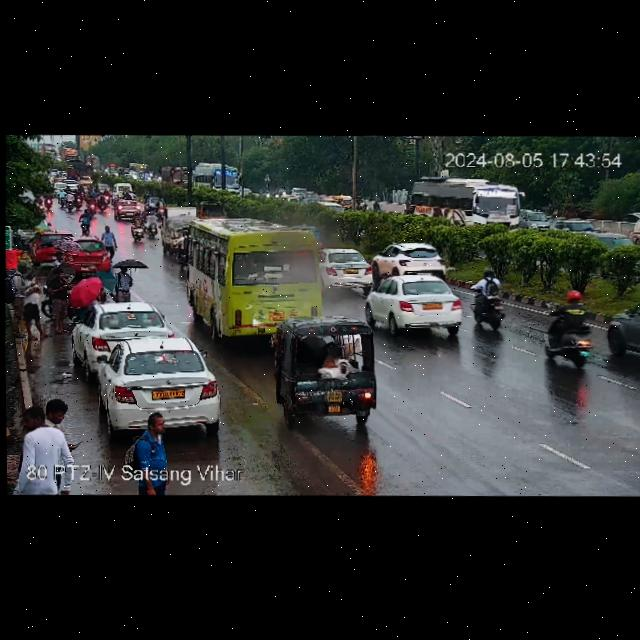bus: (187, 215, 318, 335), (407, 174, 522, 235), (193, 163, 241, 191), (128, 163, 152, 181)
car: (89, 333, 222, 433), (269, 315, 382, 425), (363, 272, 466, 333), (73, 299, 173, 359), (371, 241, 447, 282), (315, 246, 375, 297), (604, 286, 640, 360), (30, 229, 77, 264), (67, 237, 111, 274), (553, 217, 597, 241), (520, 207, 554, 232), (115, 198, 147, 221), (199, 201, 229, 221), (112, 183, 136, 199), (333, 193, 355, 210), (147, 197, 167, 209)
motorcycle: (174, 229, 193, 267), (145, 210, 159, 237), (131, 214, 143, 241), (86, 194, 100, 217), (63, 190, 75, 213)
person: (12, 402, 78, 495), (123, 413, 171, 495), (545, 290, 593, 366), (65, 273, 109, 324), (469, 270, 507, 328), (21, 269, 50, 338), (7, 258, 31, 339), (41, 268, 73, 323), (112, 266, 133, 300), (101, 225, 115, 256)
truck: (160, 206, 200, 254), (161, 165, 193, 191), (64, 159, 92, 180), (60, 147, 78, 164), (40, 143, 56, 160), (86, 154, 102, 170)
